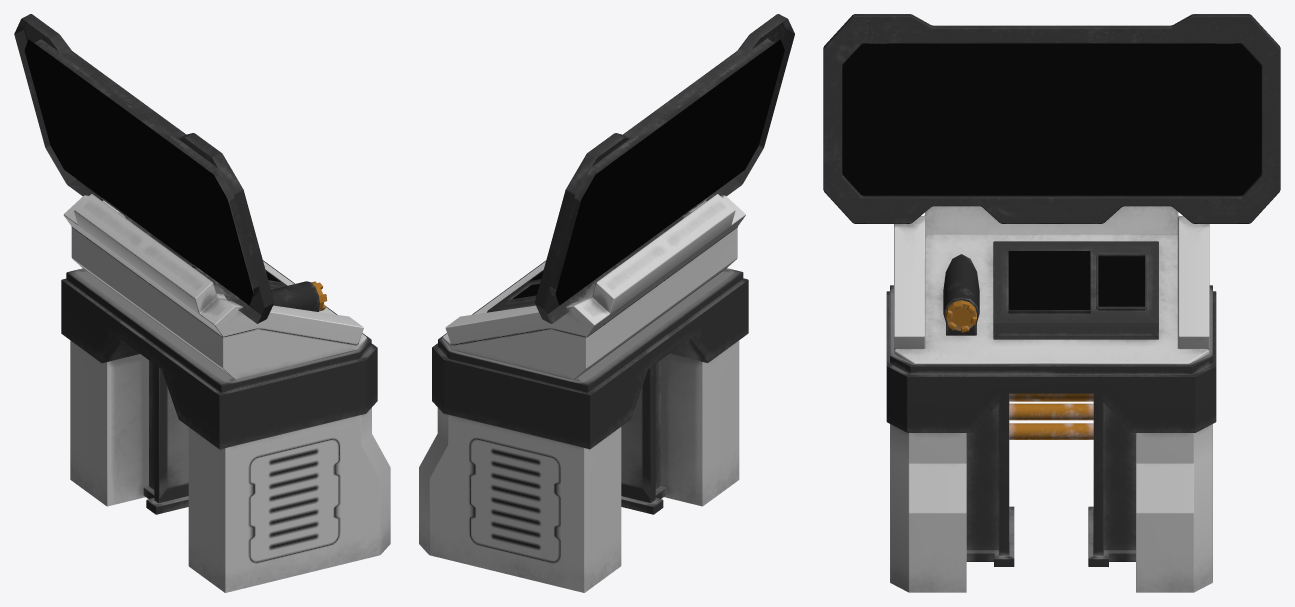
The model's file is desk_01.obj.
3 views of the same model, side by side, from view 1: azimuth 30°, elevation 25°; view 2: azimuth 150°, elevation 25°; view 3: azimuth 270°, elevation 25° (orthographic). The views are drawn at different scales.
Parts seen in each view (by area): view 1: Plane082; view 2: Plane082; view 3: Plane082.
Part boxes in pixels (box(x1,y1,x2,y2)): Plane082: box(14, 14, 390, 592); Plane082: box(419, 14, 794, 592); Plane082: box(823, 14, 1280, 592).
Size of the model in its own units: 0.727 by 1.55 by 1.35.
Materials: 1 (1 with a texture image).
